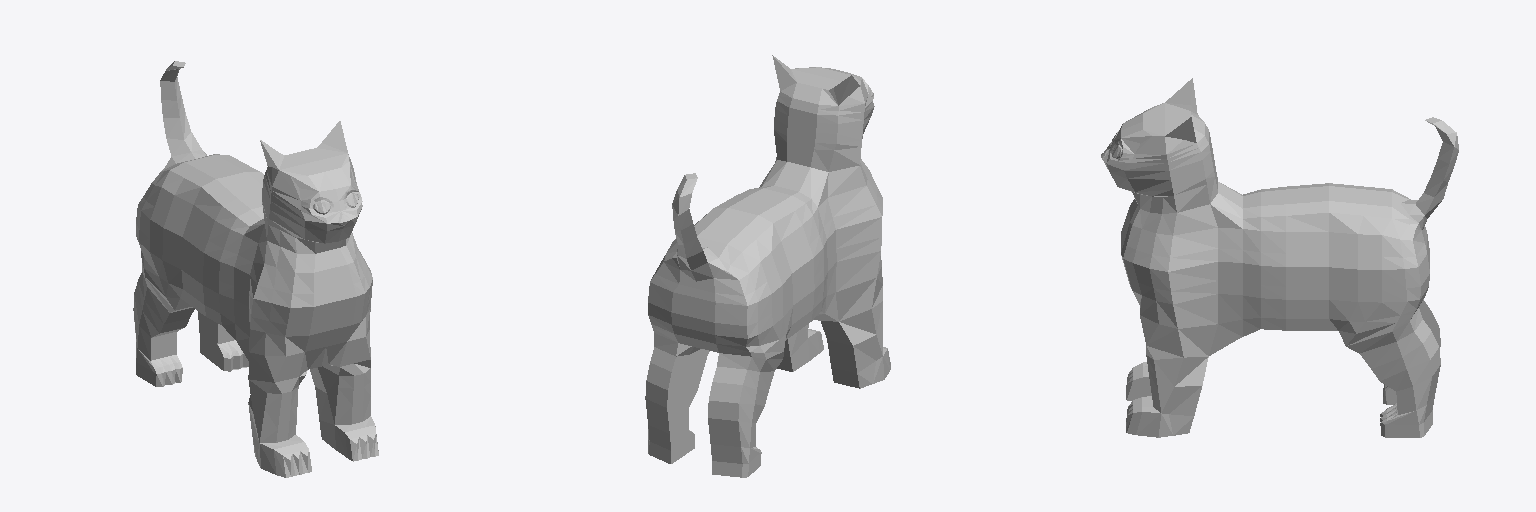
File: Cat_Texture_Ready.obj
The picture shows the model from 3 angles: view 1: azimuth 30°, elevation 25°; view 2: azimuth 150°, elevation 25°; view 3: azimuth 270°, elevation 25°; orthographic projection.
Parts seen in each view (by area): view 1: polySurface3 pCube4; view 2: polySurface3 pCube4; view 3: polySurface3 pCube4.
Part boxes in pixels (bbox=[...]): polySurface3 pCube4: bbox=[133, 61, 378, 477]; polySurface3 pCube4: bbox=[645, 55, 890, 477]; polySurface3 pCube4: bbox=[1101, 78, 1458, 437].
Bounding box in the file's own units: 19.82 × 50.29 × 51.46.